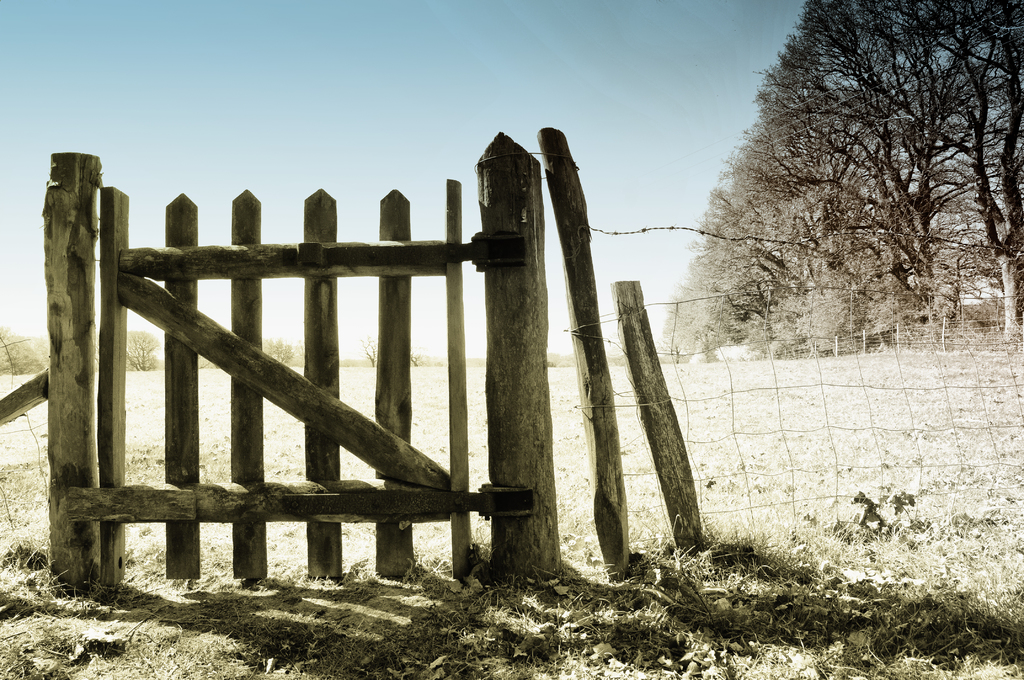Tree: (716, 17, 972, 371), (916, 0, 1023, 360), (657, 166, 741, 375), (0, 319, 60, 381), (116, 332, 186, 377), (263, 331, 302, 370), (353, 334, 384, 368), (408, 348, 442, 375)
